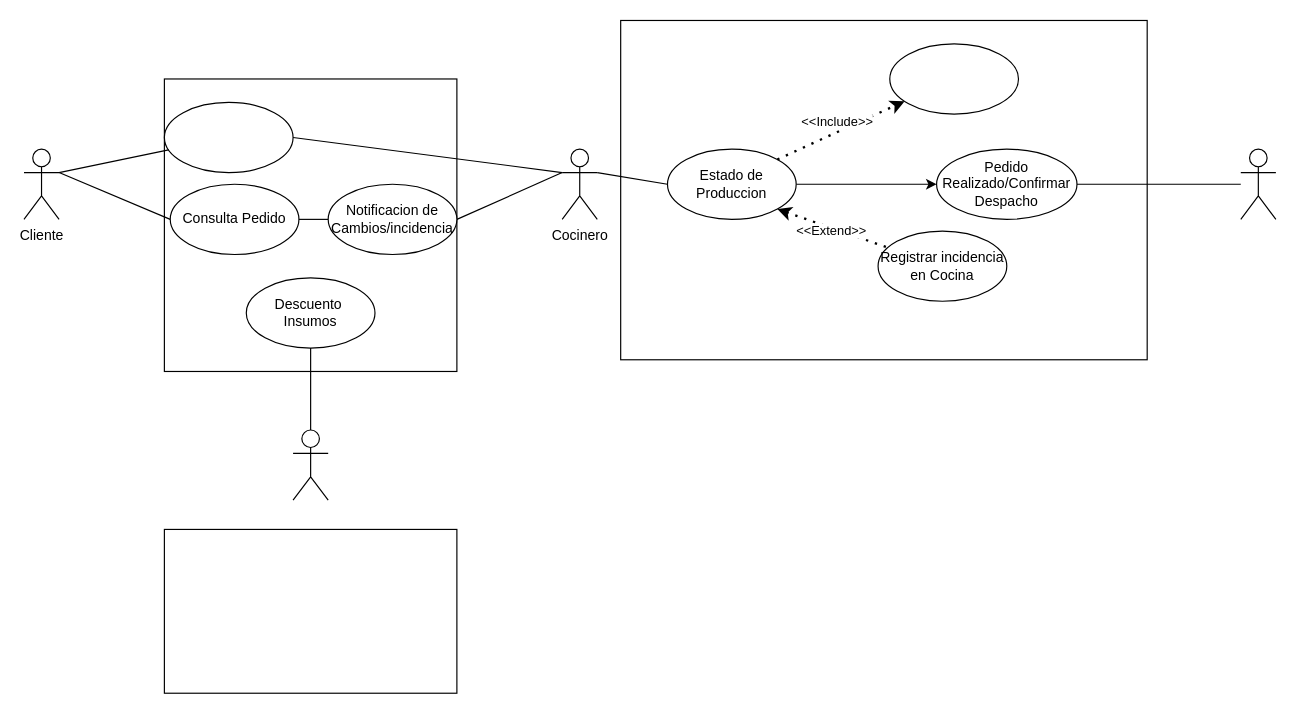
The diagram is 1312 pixels wide and 714 high, and some of its shapes have lost their labels. Here are the shapes that lost their labels. From the top down, the centre of each, then its label:
At (x=953, y=78): "Consultar Receta y Diseño".
At (x=228, y=137): "Pedido Personalizado".
At (x=1258, y=183): "Repartidor".
At (x=310, y=464): "Bodeguero".
